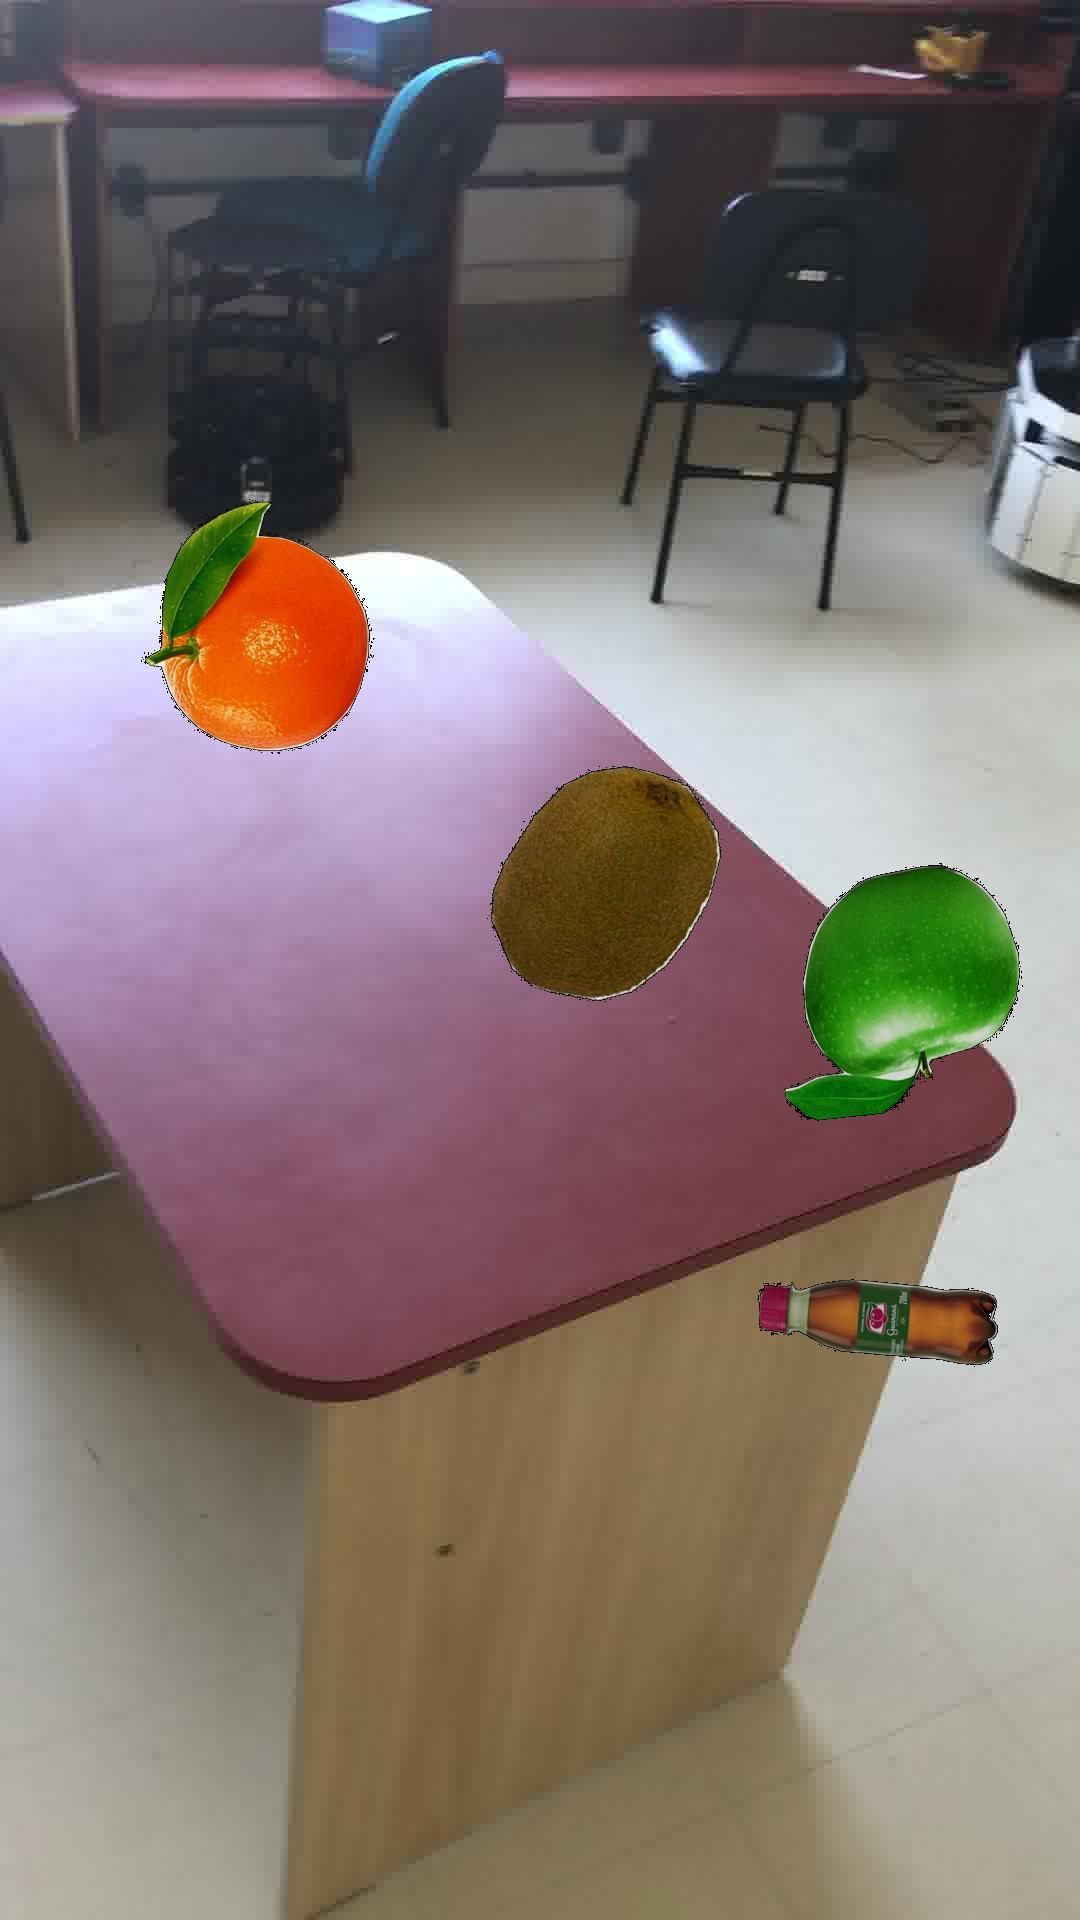green apple: (782, 861, 1018, 1120)
guarana: (757, 1278, 997, 1364)
kiwi: (488, 765, 720, 1000)
orange: (142, 500, 371, 749)
